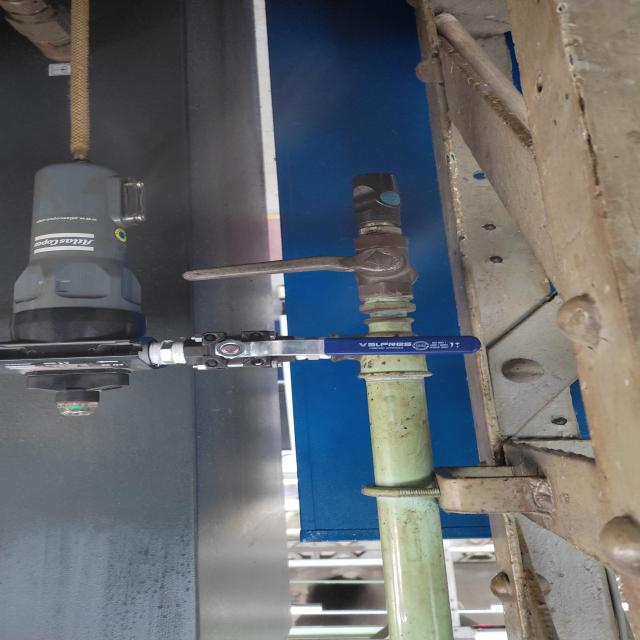closed_valve: (180, 233, 422, 299)
opened_valve: (182, 326, 486, 372)
